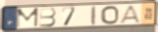7: (62, 6, 77, 26)
A: (118, 5, 143, 24)
B: (39, 7, 58, 28)
I: (91, 5, 97, 26)
M: (15, 7, 40, 29)
O: (100, 5, 120, 25)
